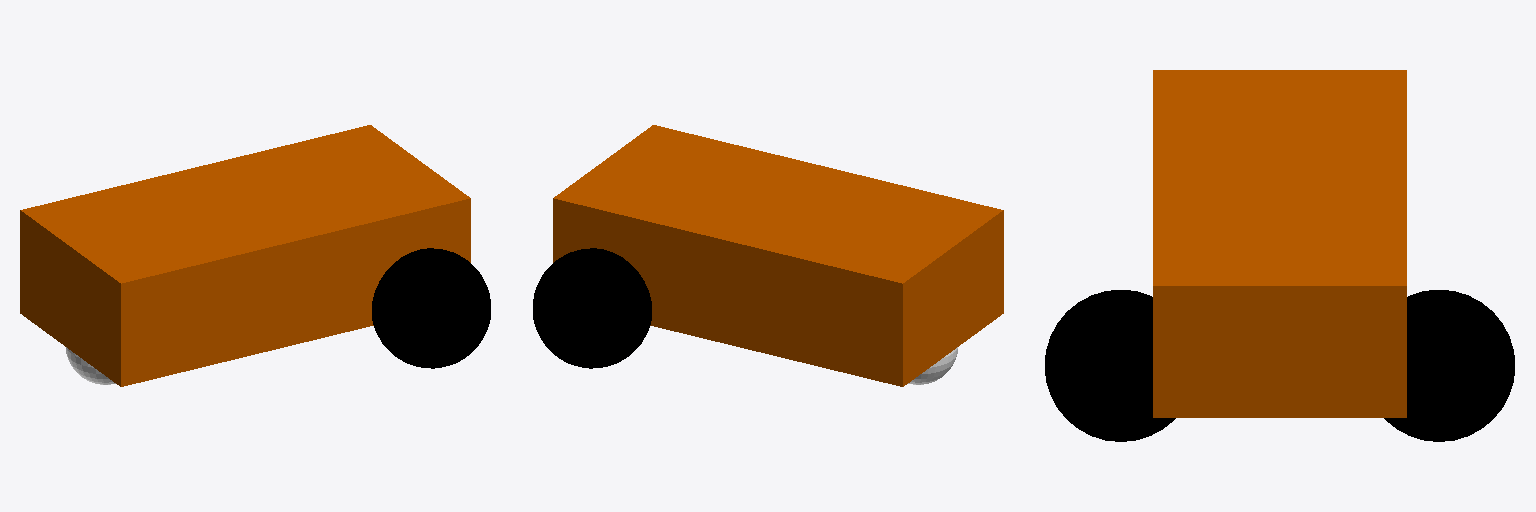
URDF robot description (my_robot):
<?xml version="1.0"?>
<robot name="my_robot" xmlns:xacro="http://www.ros.org/wiki/xacro">

  <material name="orange">
    <color rgba="0.8 0.4 0.0 1.0"/>
  </material>

  <material name="black">
    <color rgba="0 0 0 1.0"/>
  </material>

  <material name="white">
    <color rgba="1 1 1 1.0"/>
  </material>
  <!-- Base Link -->
  <link name="chassis">
    <collision>
      <origin xyz="-0.151427 -0 0.5" rpy="0 0 0"/>
      <geometry>
        <box size="2.01142 1 0.568726"/>
      </geometry>
    </collision>

    <visual>
      <origin xyz="-0.151427 -0 0.5" rpy="0 0 0"/>
      <geometry>
        <box size="2.01142 1 0.568726"/>
      </geometry>
      <material name="orange"/>
    </visual>

    <inertial>
      <origin xyz="-0.151427 -0 0.5" rpy="0 0 0"/>
      <mass value="1.14395"/>
      <inertia
        ixx="0.126164"
        ixy="0.0"
        ixz="0.0"
        iyy="0.416519"
        iyz="0.0"
        izz="0.481014"/>
    </inertial>
  </link>

  <joint name="left_wheel_joint" type="continuous">
    <origin xyz="0.554283 0.625029 0.3" rpy="-1.5707 0 0"/>
    <parent link="chassis"/>
    <child link="left_wheel"/>
    <axis xyz="0 0 1"/>
    <dynamics damping="0.2"/>
  </joint>

  <!-- left wheel Link -->
  <link name="left_wheel">
    <collision>
      <geometry>
        <sphere radius="0.3"/>
      </geometry>
    </collision>

    <visual>
      <geometry>
        <sphere radius="0.3"/>
      </geometry>
      <material name="black"/>
    </visual>

    <inertial>
      <mass value="2"/>
      <inertia ixx="0.145833"
               ixy="0.0"
               ixz="0.0"
               iyy="0.145833"
               iyz="0.0"
               izz="0.125"/>
    </inertial>
  </link>

  <joint name="right_wheel_joint" type="continuous">
    <origin xyz="0.554283 -0.625029 0.3" rpy="-1.5707 0 0"/>
    <parent link="chassis"/>
    <child link="right_wheel"/>
    <axis xyz="0 0 1"/>
    <dynamics damping="0.2"/>
  </joint>

  <!-- right wheel Link -->
  <link name="right_wheel">
    <collision>
      <geometry>
        <sphere radius="0.3"/>
      </geometry>
    </collision>

    <visual>
      <geometry>
        <sphere radius="0.3"/>
      </geometry>
      <material name="black"/>
    </visual>

    <inertial>
      <mass value="2"/>
      <inertia ixx="0.145833"
               ixy="0.0"
               ixz="0.0"
               iyy="0.145833"
               iyz="0.0"
               izz="0.125"/>
      </inertial>
  </link>

  <joint name="caster_joint" type="fixed">
    <origin xyz="-0.957138 -0 0.2" rpy="0 0 0"/>
    <parent link="chassis"/>
    <child link="caster"/>
  </joint>

  <!-- caster frontal wheel Link -->
  <link name="caster">
    <collision>
      <geometry>
        <sphere radius="0.2"/>
      </geometry>
    </collision>

    <visual>
      <geometry>
        <sphere radius="0.2"/>
      </geometry>
      <material name="white"/>
    </visual>

    <inertial>
      <origin xyz="-0.957138 -0 0.2" rpy="0 0 0"/>
      <mass value="0.005"/>
      <inertia
        ixx="0.1"
        ixy="0.0"
        ixz="0.0"
        iyy="0.1"
        iyz="0.0"
        izz="0.1"/>
    </inertial>
  </link>

  <ros2_control name="GazeboSimSystem" type="system">
    <hardware>
      <plugin>gz_ros2_control/GazeboSimSystem</plugin>
    </hardware>
    <joint name="left_wheel_joint">
      <command_interface name="velocity">
        <param name="min">-1</param>
        <param name="max">1</param>
      </command_interface>
      <state_interface name="position"/>
      <state_interface name="velocity"/>
    </joint>
    <joint name="right_wheel_joint">
      <command_interface name="velocity">
        <param name="min">-1</param>
        <param name="max">1</param>
      </command_interface>
      <state_interface name="position"/>
      <state_interface name="velocity"/>
    </joint>
  </ros2_control>

  <gazebo>
    <plugin filename="gz_ros2_control-system" name="gz_ros2_control::GazeboSimROS2ControlPlugin">
       <parameters>/home/kimuro/nav2_ws/install/my_robot_sim/share/my_robot_sim/config/controllers.yaml</parameters>
    </plugin>
  </gazebo>
</robot>

--- What the picture shows (computed from the rendered views, not written in the file) ---
The picture shows the robot from 3 angles, left to right: view 1: azimuth 30°, elevation 25°; view 2: azimuth 150°, elevation 25°; view 3: azimuth 270°, elevation 25°; orthographic projection.
Robot: my_robot — 4 links, 3 joints (2 continuous, 1 fixed); root link chassis; default pose: all joints at 0.
Links seen in each view (by area): view 1: chassis, right_wheel, caster; view 2: chassis, left_wheel, caster; view 3: chassis, left_wheel, right_wheel.
Boxes of the visible links, <box> form: chassis: <box>20,125,470,386</box>; right_wheel: <box>372,248,490,368</box>; caster: <box>66,347,115,384</box>; chassis: <box>553,125,1003,386</box>; left_wheel: <box>533,248,651,368</box>; caster: <box>908,347,957,384</box>; chassis: <box>1153,70,1406,417</box>; left_wheel: <box>1384,290,1514,441</box>; right_wheel: <box>1045,290,1175,441</box>.
Size in the robot's own frame: 2.01 by 1.85 by 0.7844 metres.
Geometry: primitives only (box / cylinder / sphere), no mesh files.
